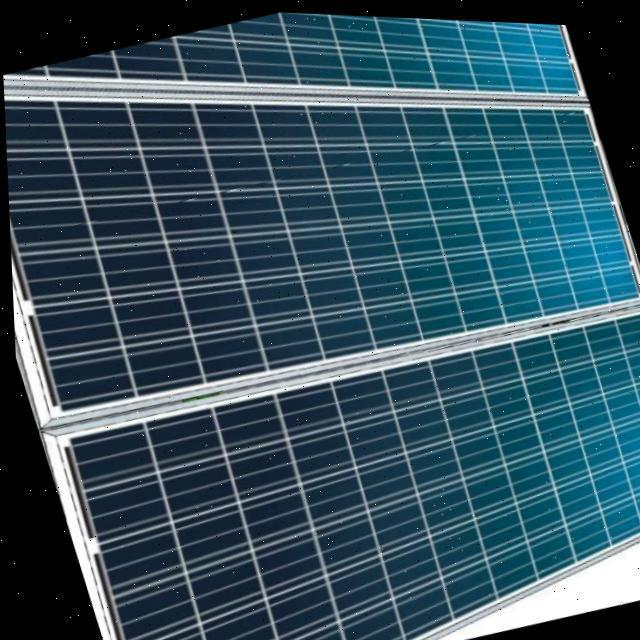Normal Solar Panel: (0, 0, 640, 441), (37, 284, 640, 640)
